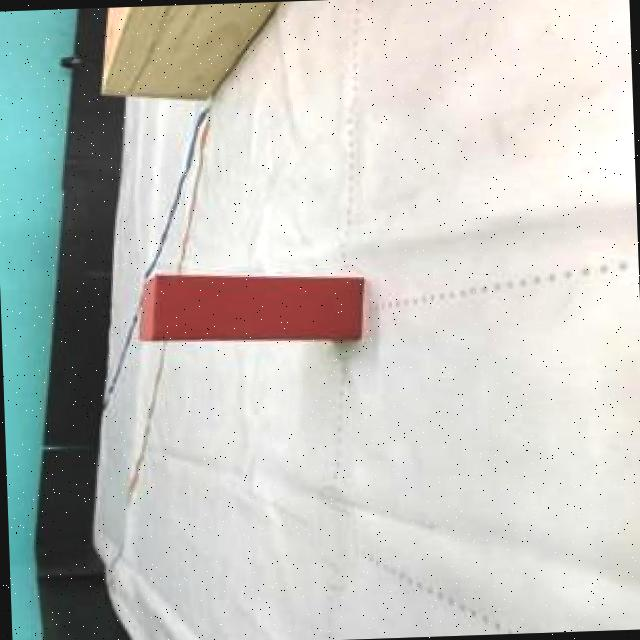redbox: (135, 265, 364, 349)
